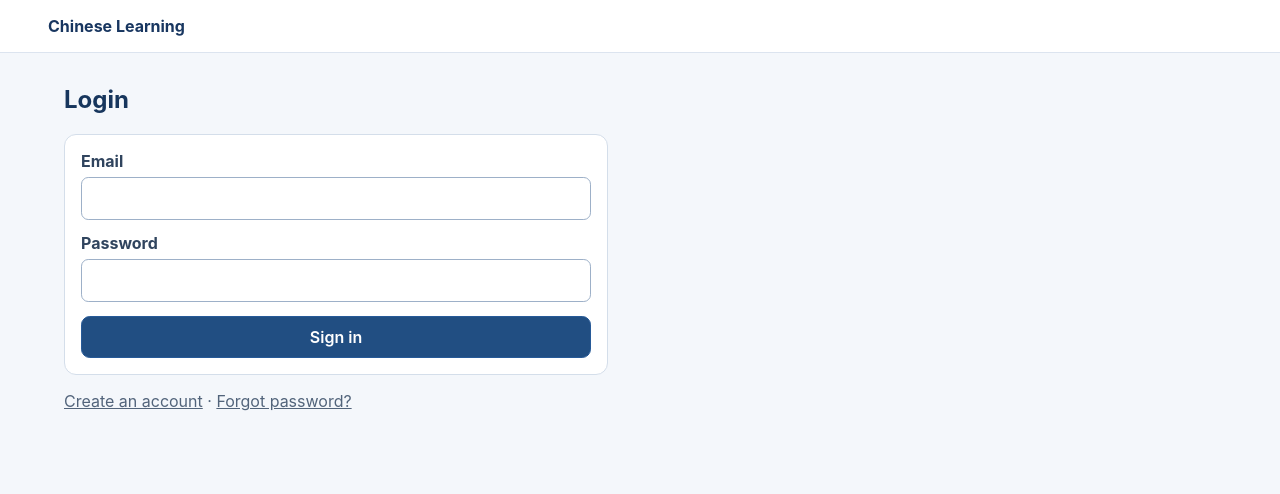
Test case: Login and Register session restoration › maps Login INVALID_CREDENTIALS to safe feedback
Type "learner@example.test" into the field labelled "Email" at (336, 198), box [81,176,591,220]
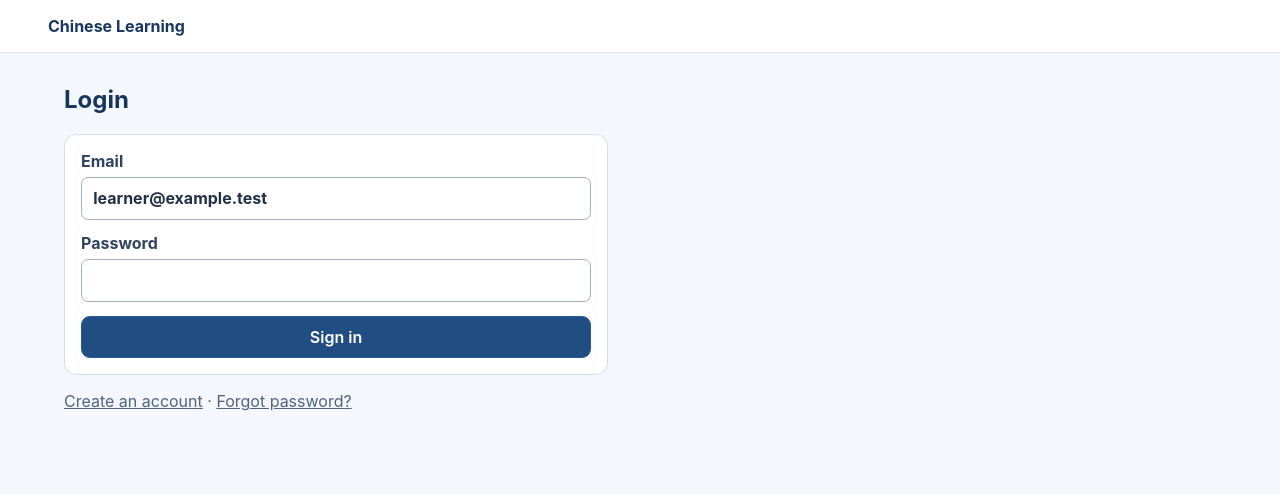
Type "secret-pass" into the password field labelled "Password" at (336, 280), box [81,259,591,302]
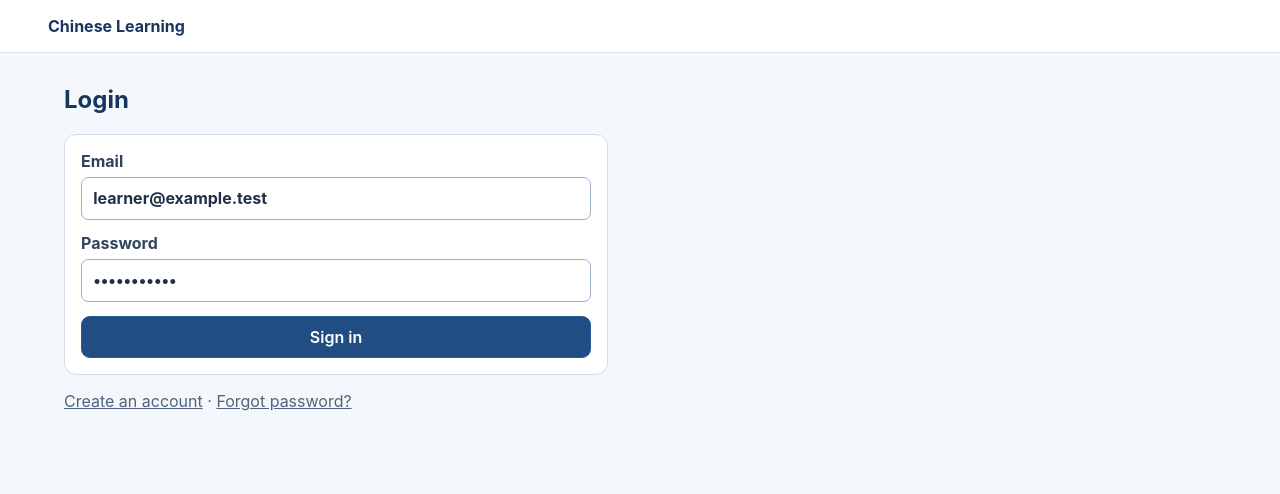
Click the button "Sign in" at (336, 337), box [81,316,591,358]
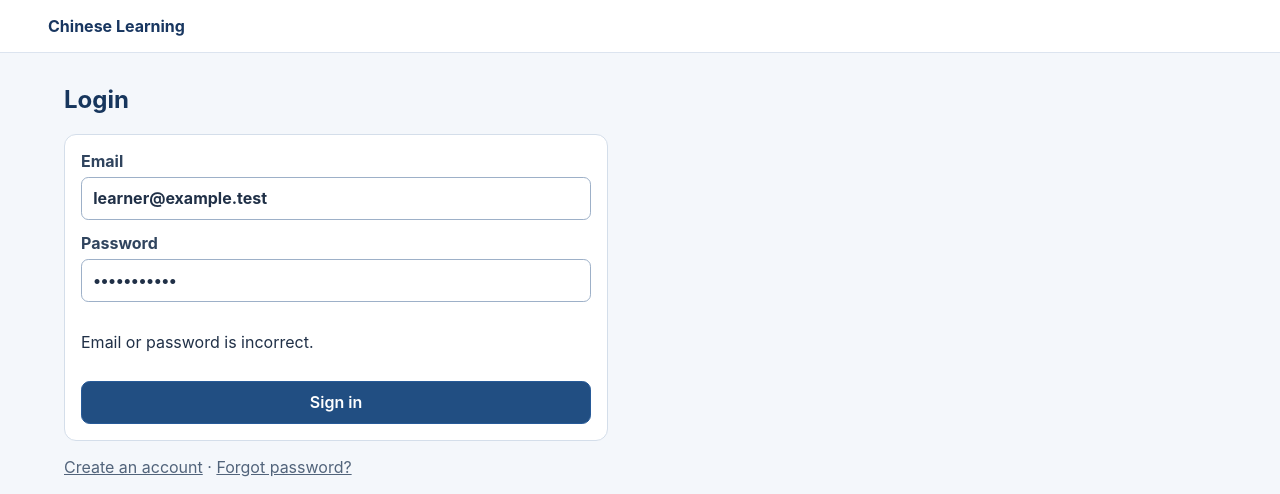
Expected: the message reads "Email or password is incorrect.", [81,332,314,352]
